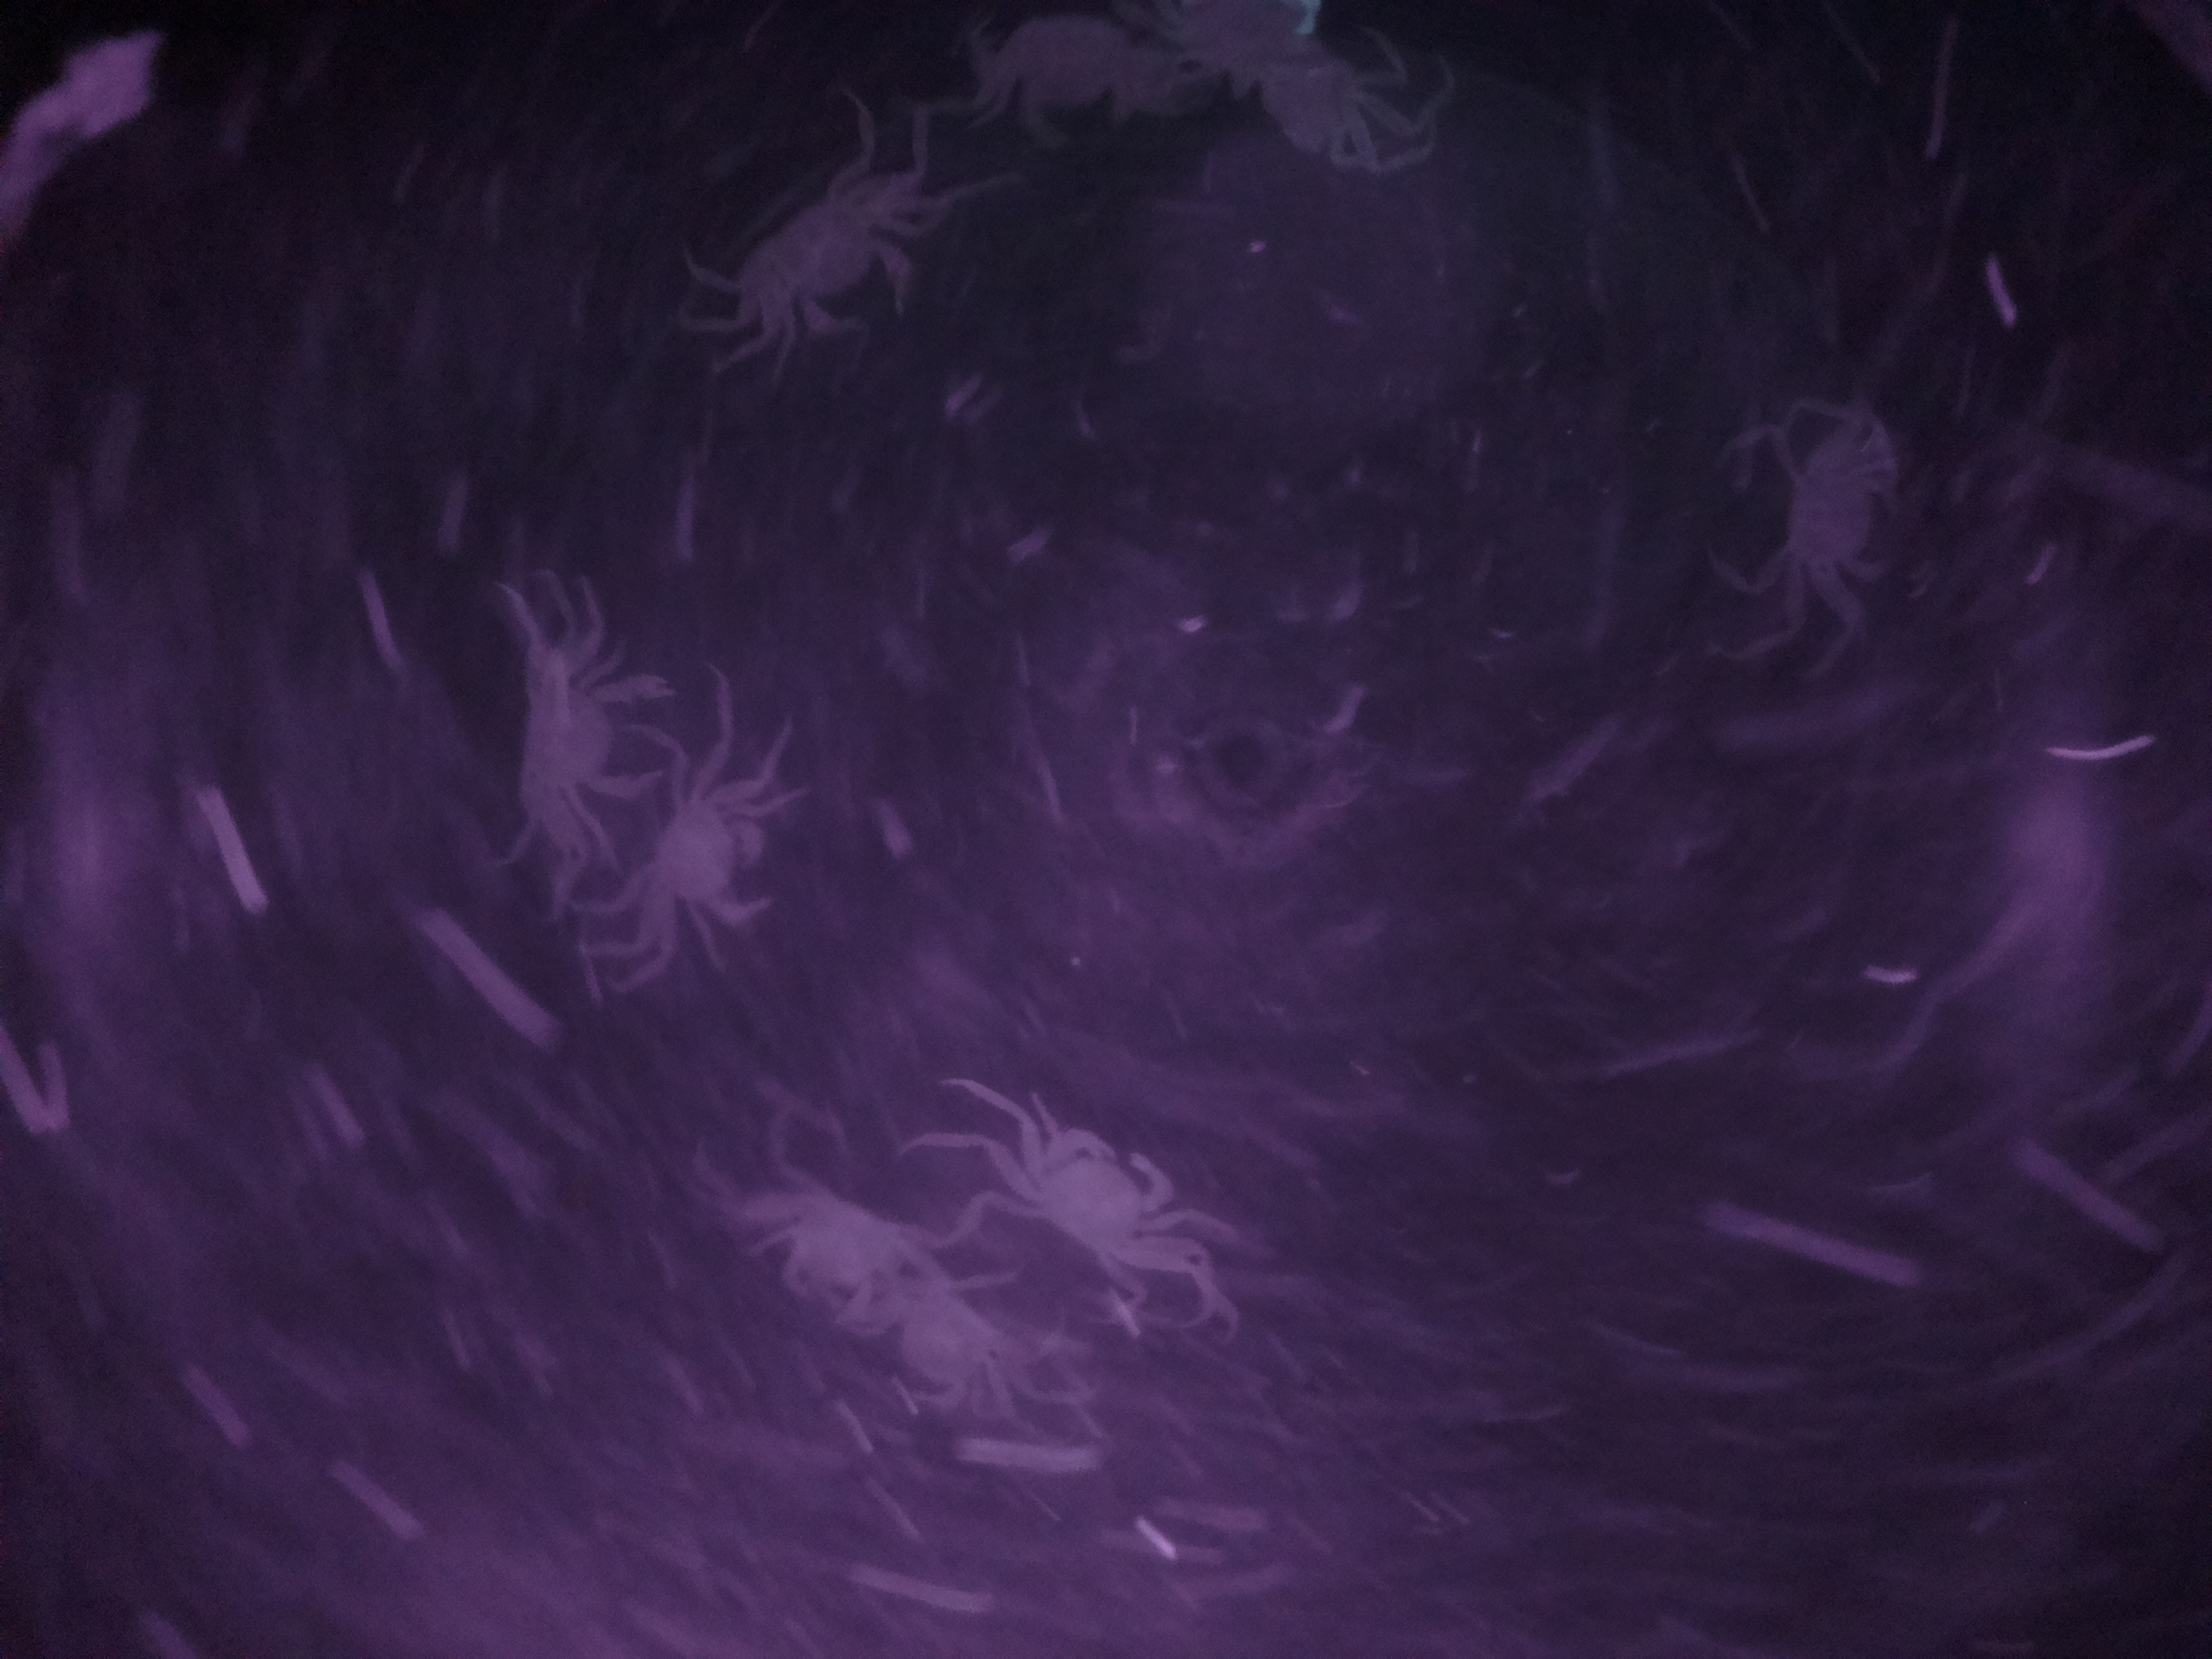Crab: (728, 157, 923, 369), (1000, 1105, 1205, 1286), (486, 647, 648, 856), (639, 770, 789, 958)
